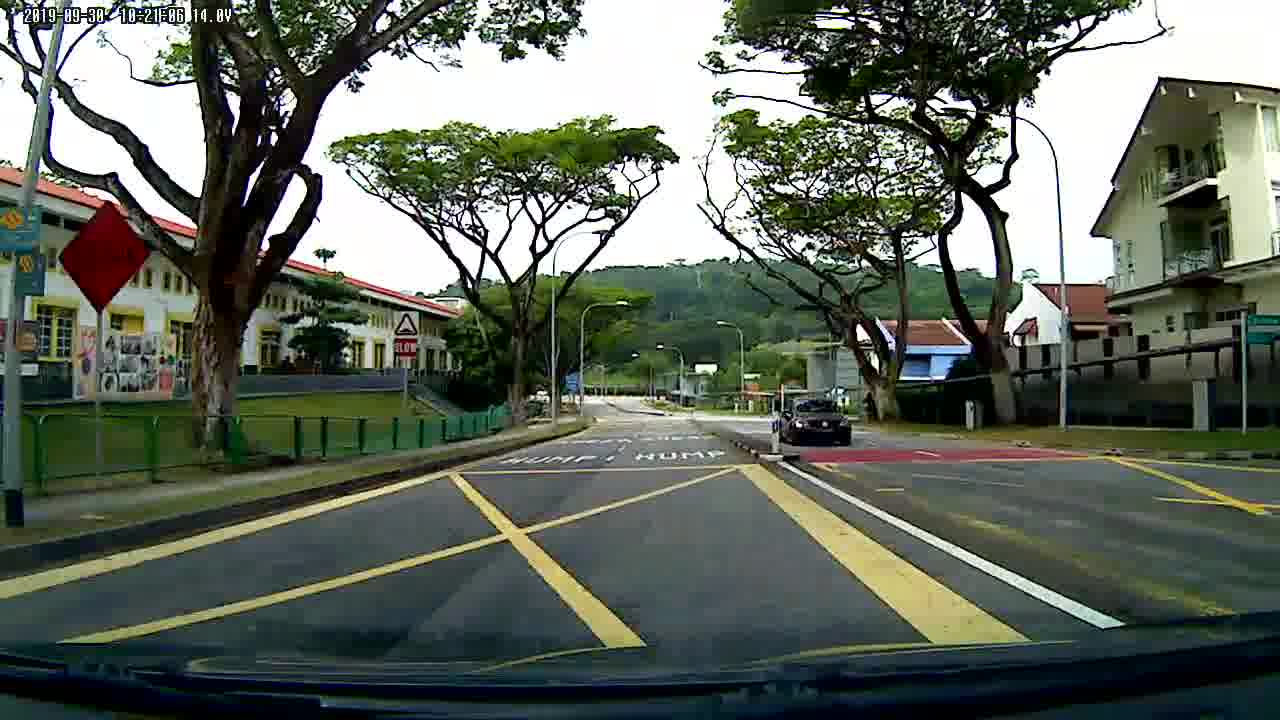car: (774, 395, 855, 447)
